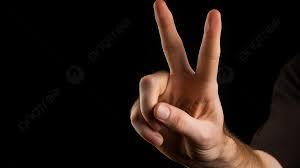peace_sign: (127, 2, 228, 168)
